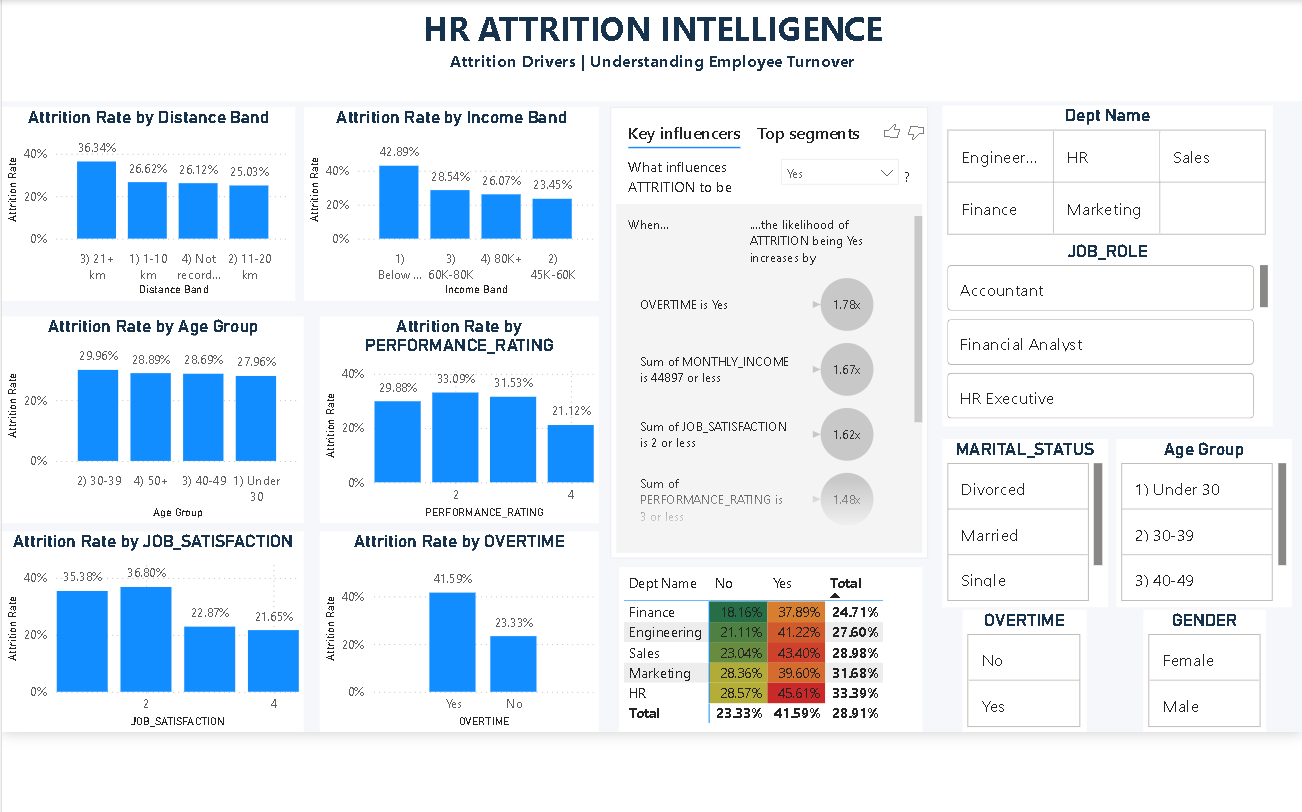

Layout of this report page (visuals, bound fields, positions):
{"tool":"powerbi","page":{"name":"Attrition Drivers","canvas":[1280,720],"ordinal":1},"visuals":[{"type":"advancedSlicerVisual","fields":{"Values":["HR_ATTRITION_FINAL.Dept Name"]},"box":[925,103.7,325.2,133.1],"z":0},{"type":"advancedSlicerVisual","fields":{"Values":["HR_ATTRITION_FINAL.JOB_ROLE"]},"box":[925,236.9,325.2,182.2],"z":1000},{"type":"advancedSlicerVisual","fields":{"Values":["HR_ATTRITION_FINAL.OVERTIME"]},"box":[944.7,599.9,121.9,120.5],"z":2000},{"type":"advancedSlicerVisual","fields":{"Values":["HR_ATTRITION_FINAL.MARITAL_STATUS"]},"box":[925,431.7,162.6,165.4],"z":3000},{"type":"advancedSlicerVisual","fields":{"Values":["HR_ATTRITION_FINAL.Age Group"]},"box":[1096,431.7,172.4,165.4],"z":4000},{"type":"advancedSlicerVisual","fields":{"Values":["HR_ATTRITION_FINAL.GENDER"]},"box":[1122.7,599.9,120.5,120.5],"z":5000},{"type":"clusteredColumnChart","fields":{"Category":["HR_ATTRITION_FINAL.OVERTIME"],"Y":["_measures.Attrition Rate"]},"box":[312.5,522.8,274.7,197.6],"z":6000},{"type":"clusteredColumnChart","fields":{"Category":["HR_ATTRITION_FINAL.Income Band"],"Y":["_measures.Attrition Rate"]},"box":[297.1,105.1,290.1,190.6],"z":7000},{"type":"clusteredColumnChart","fields":{"Category":["HR_ATTRITION_FINAL.Distance Band"],"Y":["_measures.Attrition Rate"]},"box":[0,105.1,288.7,190.6],"z":8000},{"type":"clusteredColumnChart","fields":{"Category":["HR_ATTRITION_FINAL.JOB_SATISFACTION"],"Y":["_measures.Attrition Rate"]},"box":[0,522.8,297.1,197.6],"z":9000},{"type":"clusteredColumnChart","fields":{"Category":["HR_ATTRITION_FINAL.PERFORMANCE_RATING"],"Y":["_measures.Attrition Rate"]},"box":[312.5,311.1,274.7,203.2],"z":10000},{"type":"clusteredColumnChart","fields":{"Category":["HR_ATTRITION_FINAL.Age Group"],"Y":["_measures.Attrition Rate"]},"box":[0,311.1,297.1,203.2],"z":11000},{"type":"pivotTable","fields":{"Rows":["HR_ATTRITION_FINAL.Dept Name"],"Columns":["HR_ATTRITION_FINAL.OVERTIME"],"Values":["_measures.Attrition Rate"]},"box":[606.9,557.8,298.5,162.6],"z":12000},{"type":"keyDriversVisual","fields":{"Target":["HR_ATTRITION_FINAL.ATTRITION"],"ExplainBy":["HR_ATTRITION_FINAL.OVERTIME","HR_ATTRITION_FINAL.Dept Name","Sum(HR_ATTRITION_FINAL.DISTANCE_FROM_HOME)","Sum(HR_ATTRITION_FINAL.JOB_SATISFACTION)","Sum(HR_ATTRITION_FINAL.MONTHLY_INCOME)","Sum(HR_ATTRITION_FINAL.AGE)","Sum(HR_ATTRITION_FINAL.PERFORMANCE_RATING)"]},"box":[598.5,105.1,312.5,444.3],"z":13000},{"type":"textbox","box":[0,0,1279.6,99.5],"z":14000}]}

Visuals, with their boxes on the page's 1280x720 design canvas (x1, y1, x2, y2). These are canvas units, not pixel positions in the 1302x812 screenshot, which may show the page scaled, cropped or inside an application window:
advancedSlicerVisual - HR_ATTRITION_FINAL.Dept Name: bbox=[925, 104, 1250, 237]
advancedSlicerVisual - HR_ATTRITION_FINAL.JOB_ROLE: bbox=[925, 237, 1250, 419]
advancedSlicerVisual - HR_ATTRITION_FINAL.OVERTIME: bbox=[945, 600, 1067, 720]
advancedSlicerVisual - HR_ATTRITION_FINAL.MARITAL_STATUS: bbox=[925, 432, 1088, 597]
advancedSlicerVisual - HR_ATTRITION_FINAL.Age Group: bbox=[1096, 432, 1268, 597]
advancedSlicerVisual - HR_ATTRITION_FINAL.GENDER: bbox=[1123, 600, 1243, 720]
clusteredColumnChart - HR_ATTRITION_FINAL.OVERTIME x _measures.Attrition Rate: bbox=[312, 523, 587, 720]
clusteredColumnChart - HR_ATTRITION_FINAL.Income Band x _measures.Attrition Rate: bbox=[297, 105, 587, 296]
clusteredColumnChart - HR_ATTRITION_FINAL.Distance Band x _measures.Attrition Rate: bbox=[0, 105, 289, 296]
clusteredColumnChart - HR_ATTRITION_FINAL.JOB_SATISFACTION x _measures.Attrition Rate: bbox=[0, 523, 297, 720]
clusteredColumnChart - HR_ATTRITION_FINAL.PERFORMANCE_RATING x _measures.Attrition Rate: bbox=[312, 311, 587, 514]
clusteredColumnChart - HR_ATTRITION_FINAL.Age Group x _measures.Attrition Rate: bbox=[0, 311, 297, 514]
pivotTable - HR_ATTRITION_FINAL.Dept Name x HR_ATTRITION_FINAL.OVERTIME: bbox=[607, 558, 905, 720]
keyDriversVisual - HR_ATTRITION_FINAL.ATTRITION x HR_ATTRITION_FINAL.OVERTIME: bbox=[598, 105, 911, 549]
textbox: bbox=[0, 0, 1280, 100]
